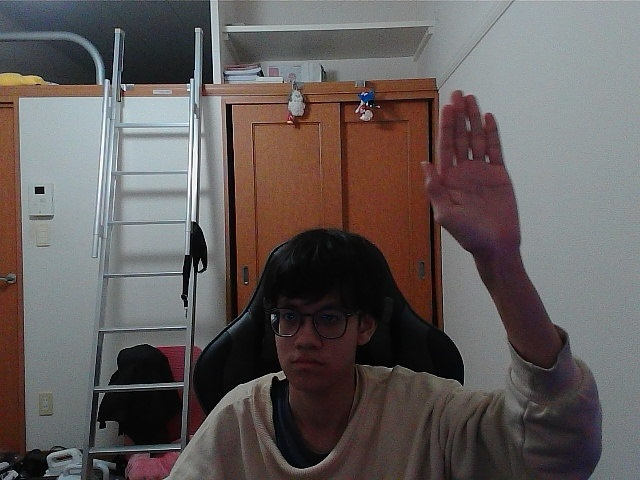open_palm: (427, 98, 499, 241)
